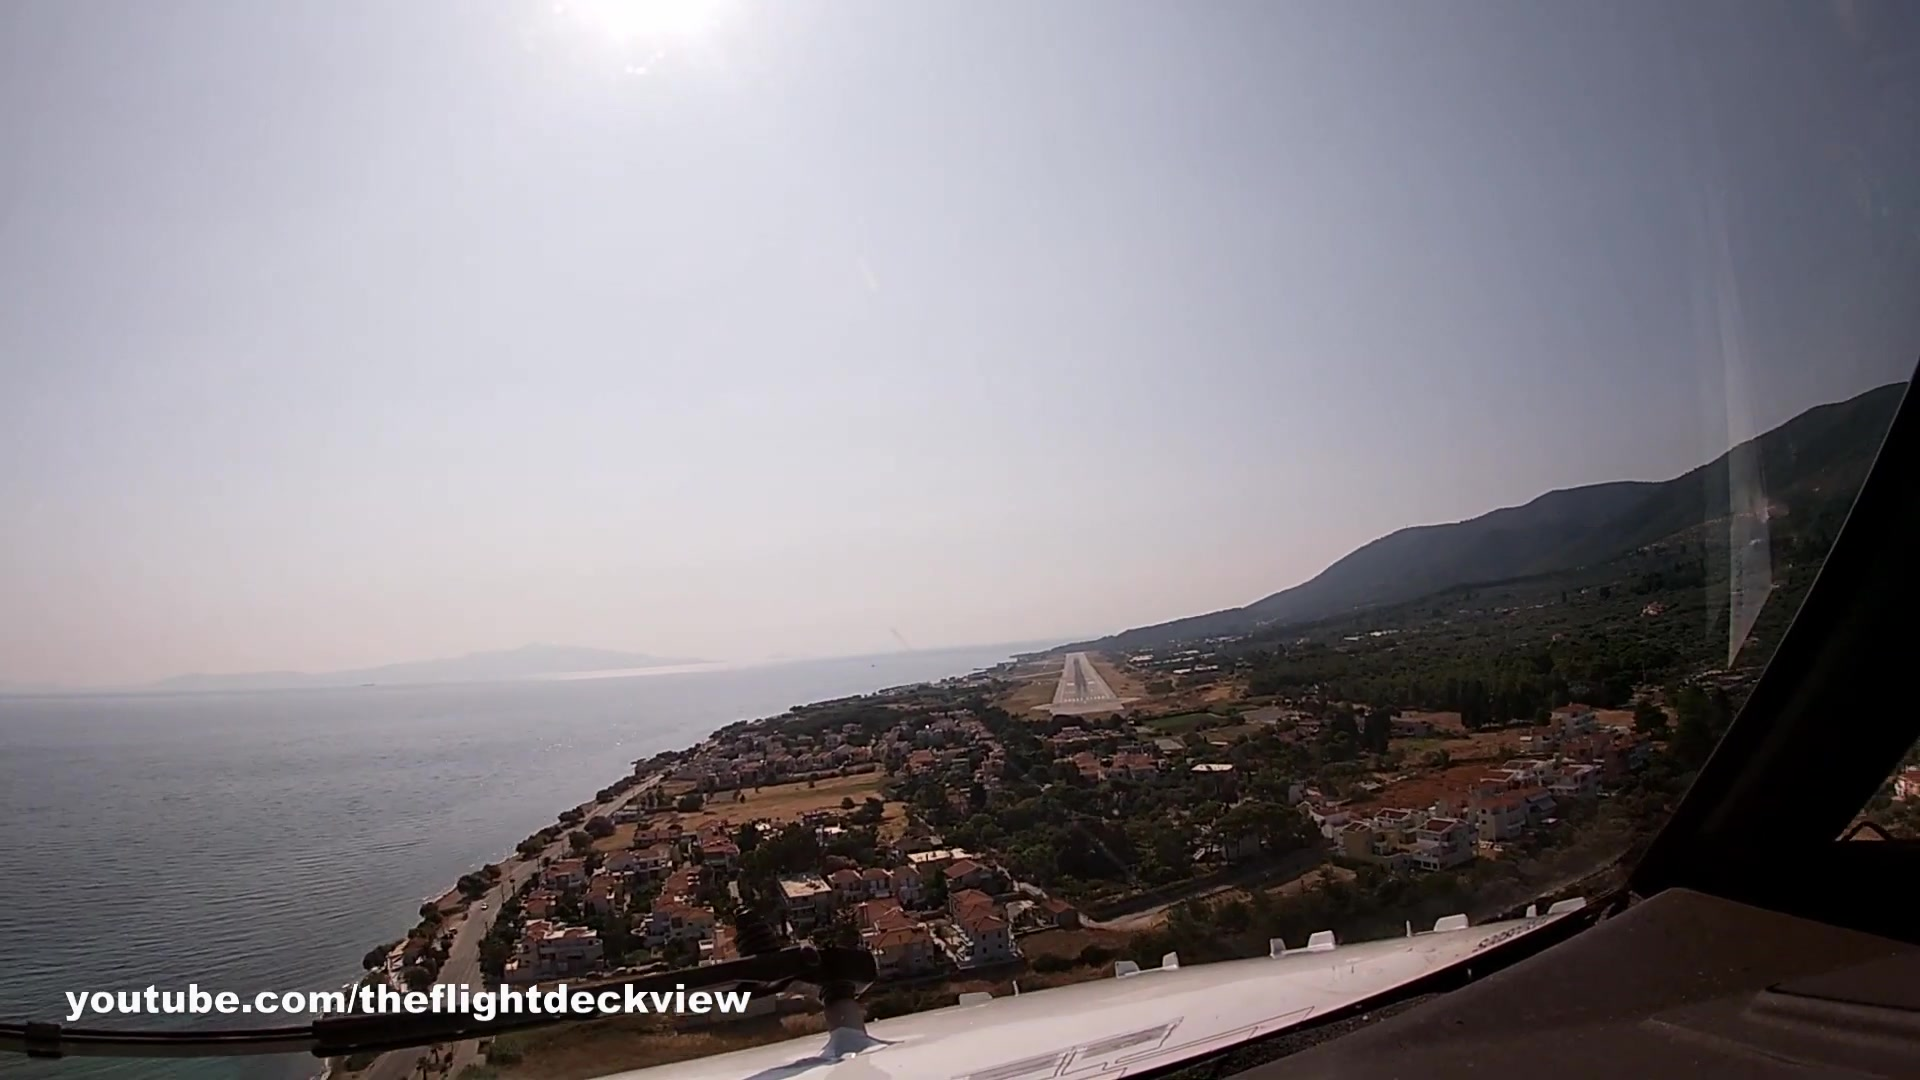entrance: (1060, 694, 1112, 704)
runway: (1046, 651, 1124, 716)
